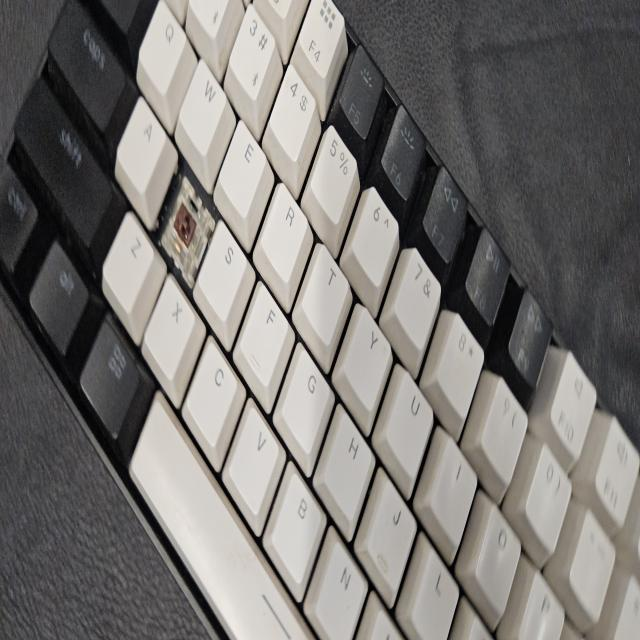C: (171, 189, 204, 275), (171, 198, 196, 248)
